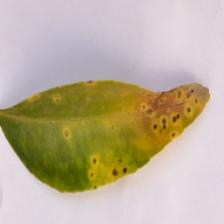canker: (41, 60, 198, 184)
